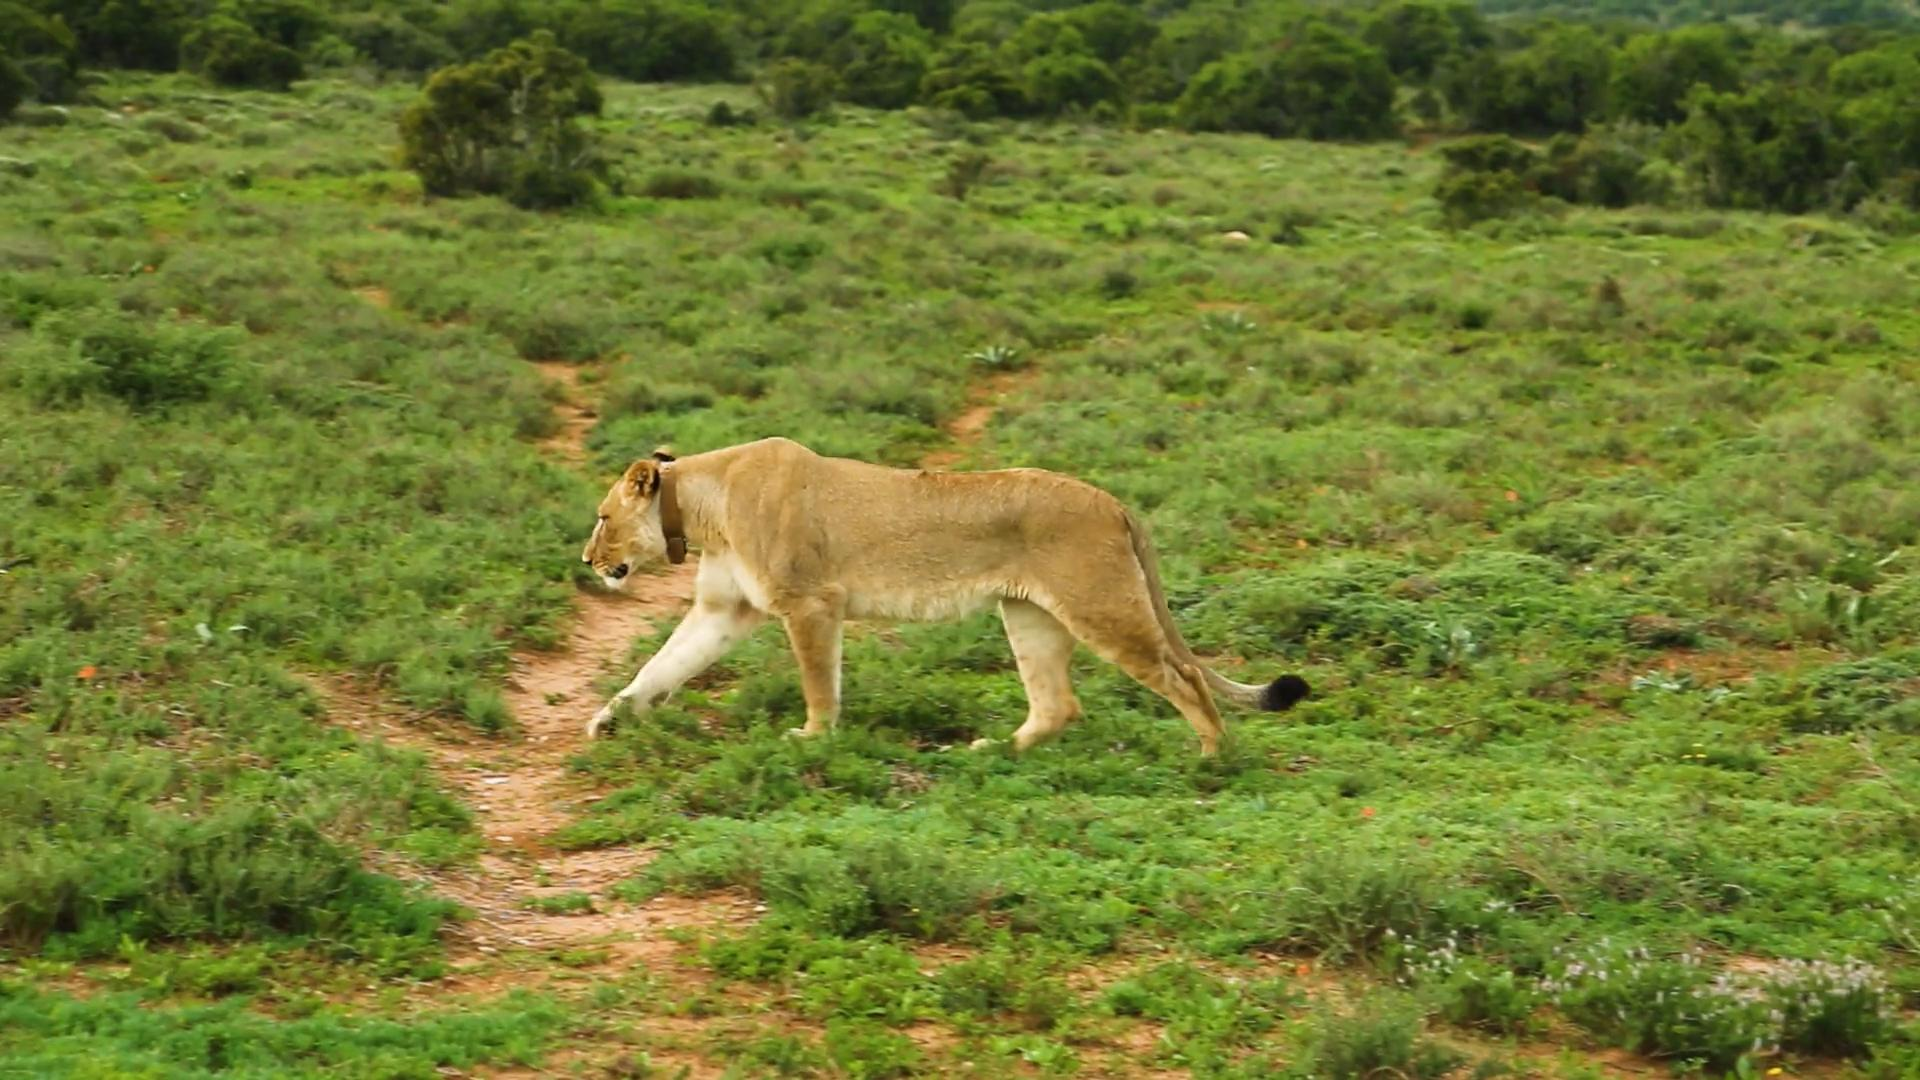lions: (558, 406, 1340, 770)
